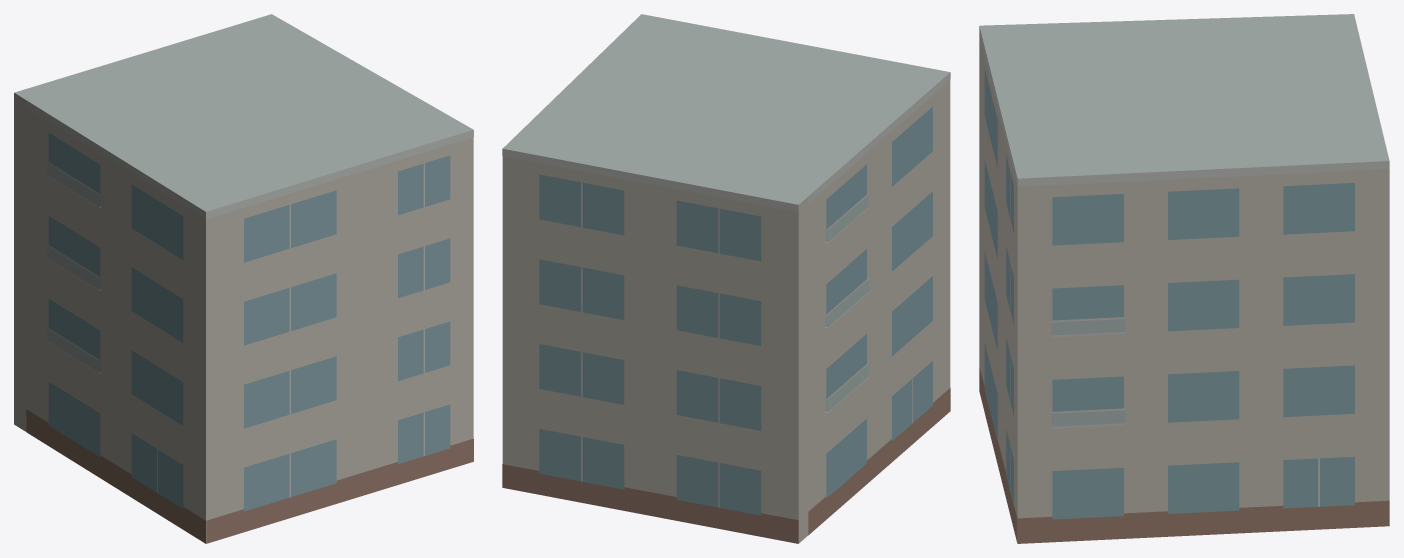
Rendered from survey-upis-32816971.glb.
3 views of the same model, side by side, from view 1: azimuth 30°, elevation 25°; view 2: azimuth 150°, elevation 25°; view 3: azimuth 270°, elevation 25° (orthographic). The views are drawn at different scales.
Parts seen in each view (by area): view 1: survey-upis-32816971.tmp; view 2: survey-upis-32816971.tmp; view 3: survey-upis-32816971.tmp.
Boxes of the visible parts, x1=… form: survey-upis-32816971.tmp: x1=14, y1=14, x2=473, y2=543; survey-upis-32816971.tmp: x1=502, y1=14, x2=950, y2=543; survey-upis-32816971.tmp: x1=979, y1=14, x2=1389, y2=543.
Size of the model in its own units: 10.55 by 10.9 by 11.11.
